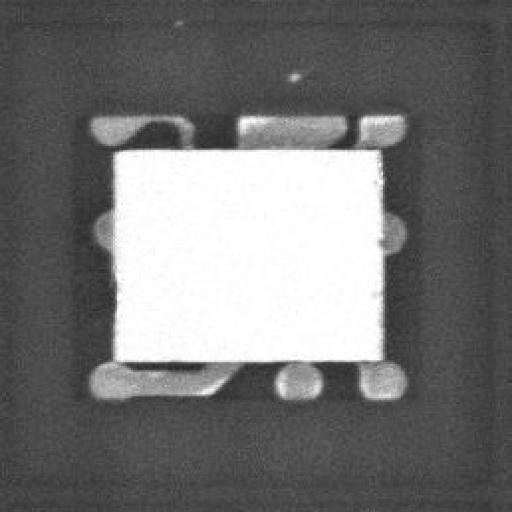DIE_INK: (280, 64, 306, 82), (166, 12, 184, 30)
